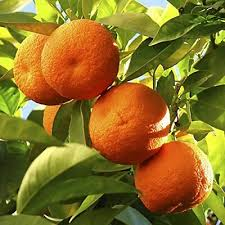orange: (84, 82, 172, 160), (42, 19, 118, 98), (137, 145, 215, 212), (10, 31, 72, 107)
